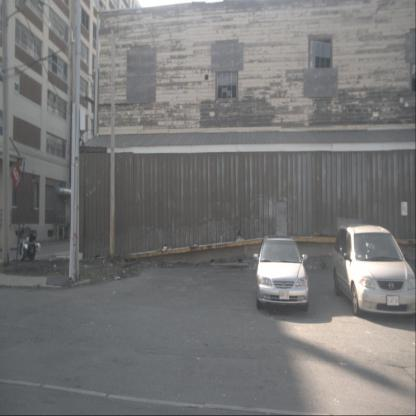vehicle-car: (332, 224, 416, 318), (257, 235, 308, 313)
vehicle-motorcycle: (15, 223, 40, 265)
